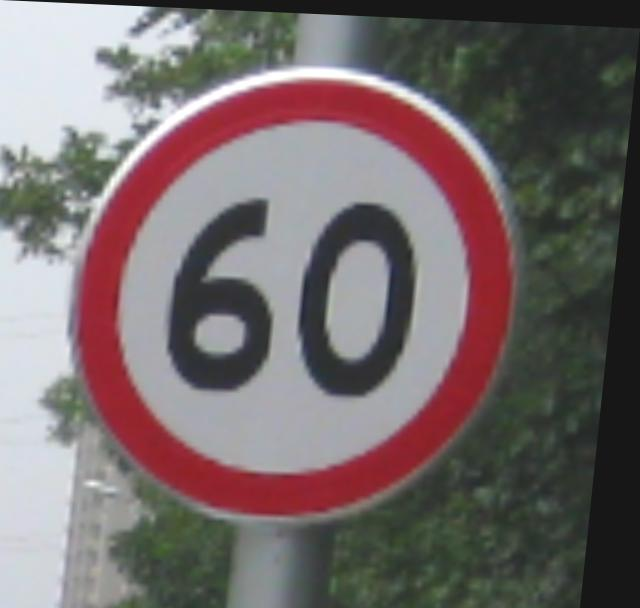limit60: (46, 49, 542, 534)
